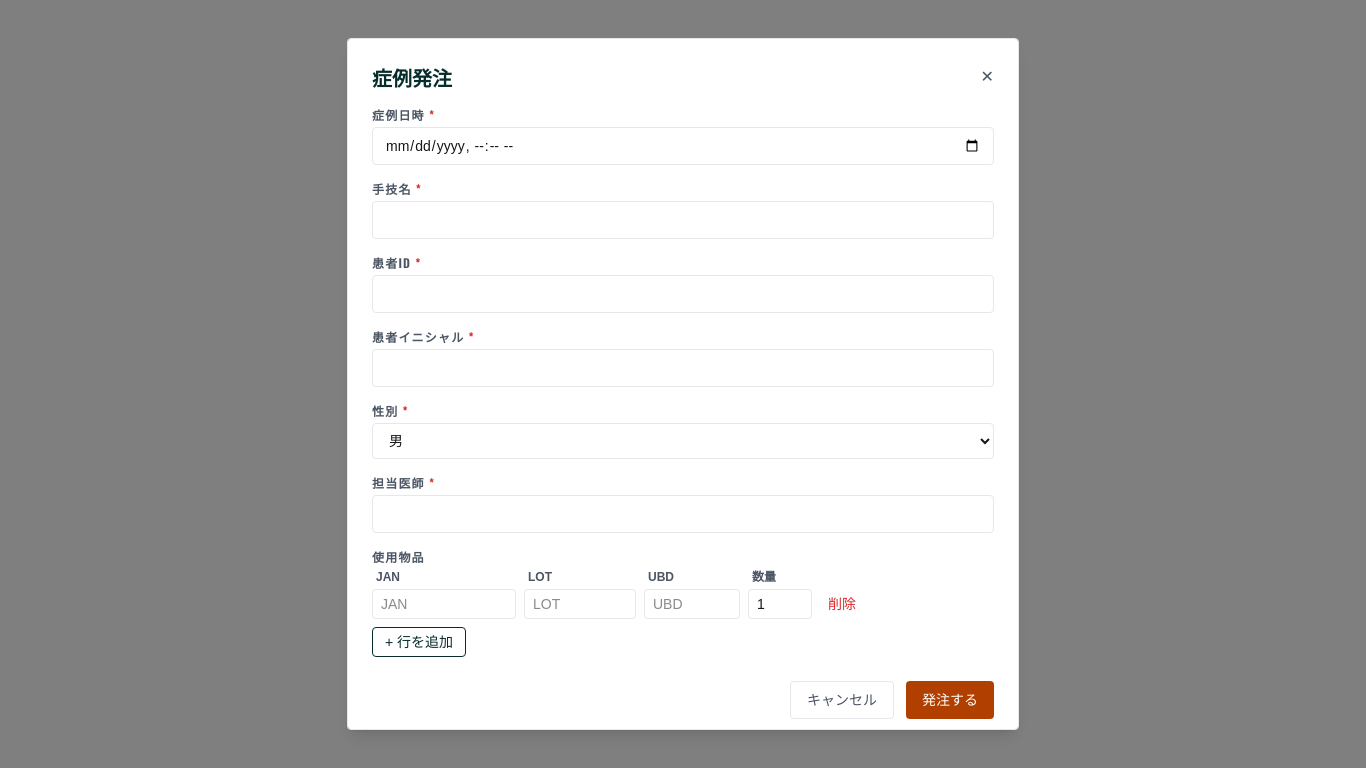
Test: CaseOrderModal 空送信防止 › 症例日時のみ入力し患者IDが空のまま送信するとfetchが呼ばれず患者ID未入力のエラーが表示される
Type "2026-07-13T10:00" into the field labelled "症例日時 *" at (683,146), box [372, 127, 994, 165]
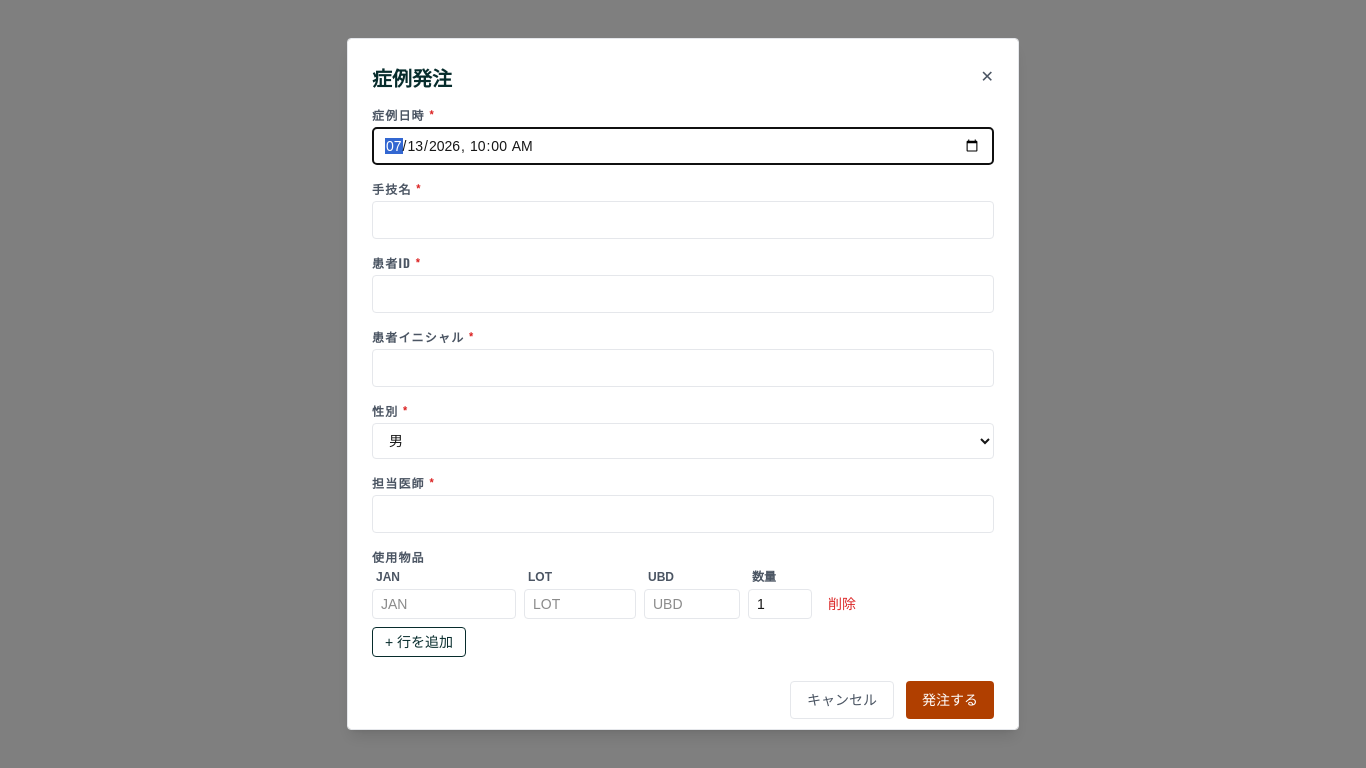
Type "カテーテル手技" into the field labelled "手技名 *" at (683,220), box [372, 201, 994, 239]
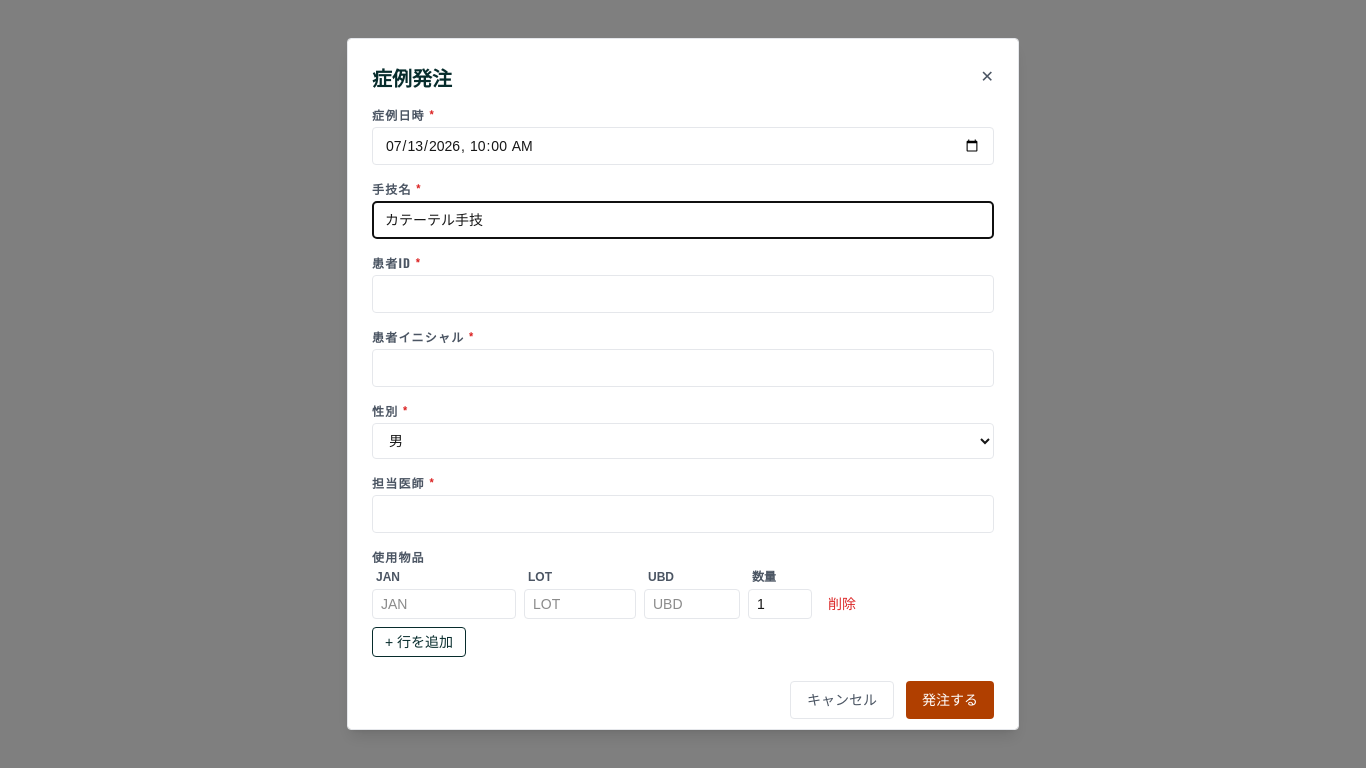
Click the button "発注する" at (950,700), box [906, 681, 994, 719]
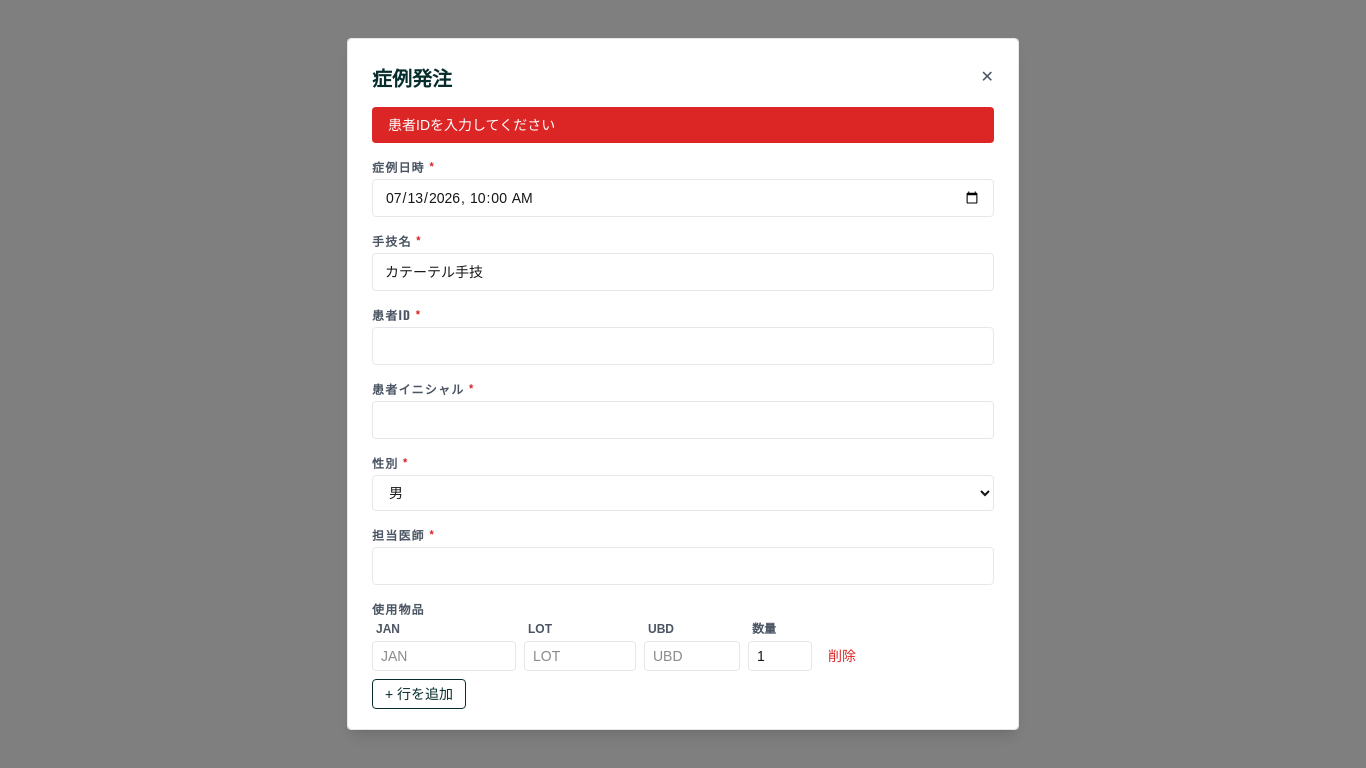
expect the text "患者IDを入力してください" is shown: met, box [372, 107, 994, 143]
